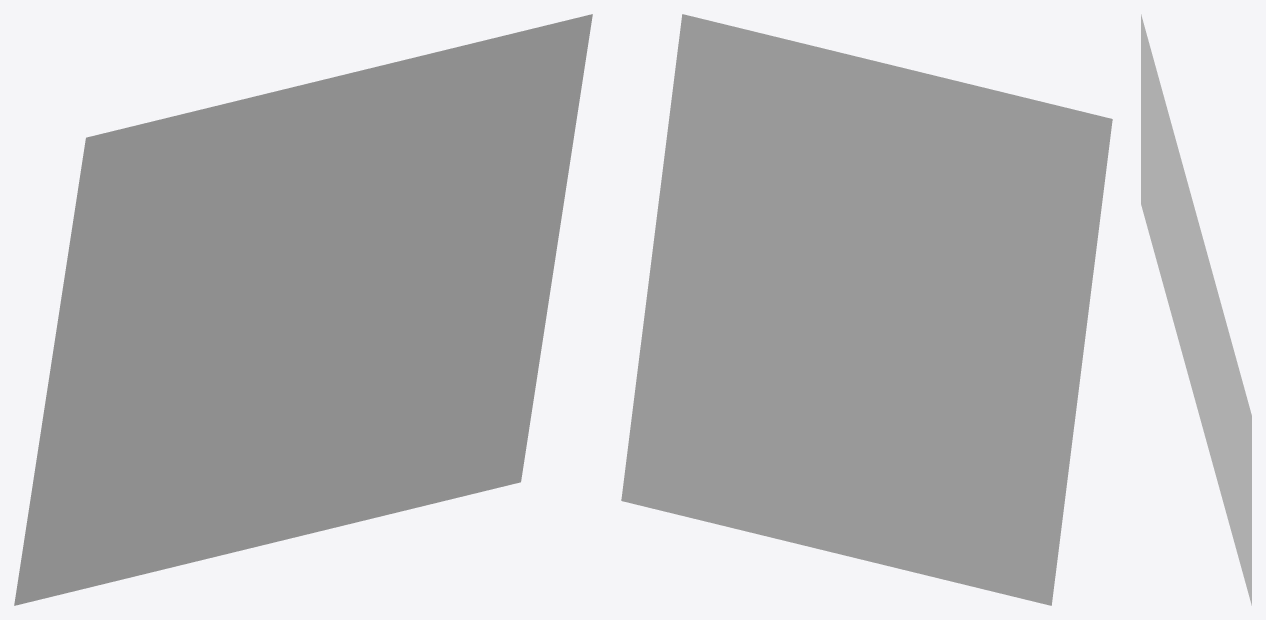
Rendered from primary_103.glb.
3 views of the same model, side by side, from view 1: azimuth 30°, elevation 25°; view 2: azimuth 150°, elevation 25°; view 3: azimuth 270°, elevation 25° (orthographic). The views are drawn at different scales.
Parts seen in each view (by area): view 1: Object; view 2: Object; view 3: Object.
Boxes of the visible parts, box(x1,y1,x2,y2) form: Object: box(14, 14, 592, 605); Object: box(621, 14, 1112, 605); Object: box(1141, 14, 1251, 605).
Bounding box in the file's own units: 1.67 × 1.64 × 0.4089.
1 material, 1 textured.
